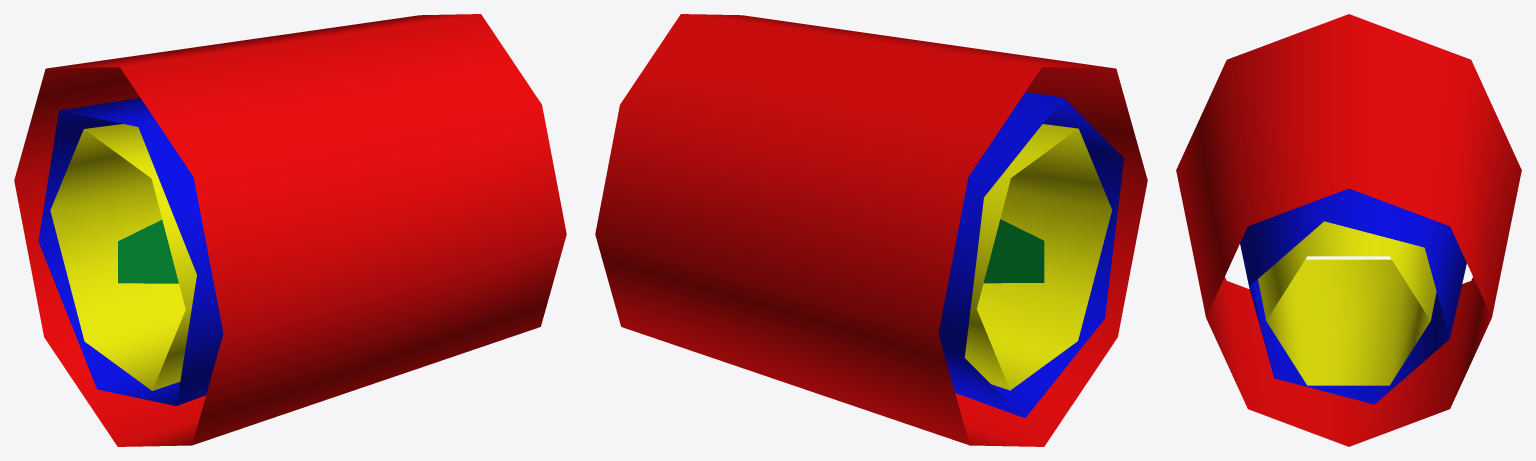
The model's file is test-input.fbx.
3 views of the same model, side by side, from view 1: azimuth 30°, elevation 25°; view 2: azimuth 150°, elevation 25°; view 3: azimuth 270°, elevation 25° (orthographic). The views are drawn at different scales.
Visible parts, largest first — view 1: Trunk, Smallbranch, Branch, Leaf; view 2: Trunk, Smallbranch, Branch, Leaf; view 3: Trunk, Smallbranch, Branch.
Boxes of the visible parts, x1=… form: Trunk: x1=14, y1=14, x2=566, y2=446; Smallbranch: x1=50, y1=124, x2=196, y2=390; Branch: x1=38, y1=98, x2=223, y2=405; Leaf: x1=118, y1=220, x2=178, y2=283; Trunk: x1=595, y1=14, x2=1147, y2=446; Smallbranch: x1=964, y1=124, x2=1111, y2=390; Branch: x1=938, y1=92, x2=1123, y2=417; Leaf: x1=983, y1=219, x2=1044, y2=283; Trunk: x1=1176, y1=14, x2=1521, y2=446; Smallbranch: x1=1258, y1=221, x2=1436, y2=385; Branch: x1=1240, y1=188, x2=1466, y2=404.
Bounding box in the file's own units: 97.01 × 96.51 × 96.51.
